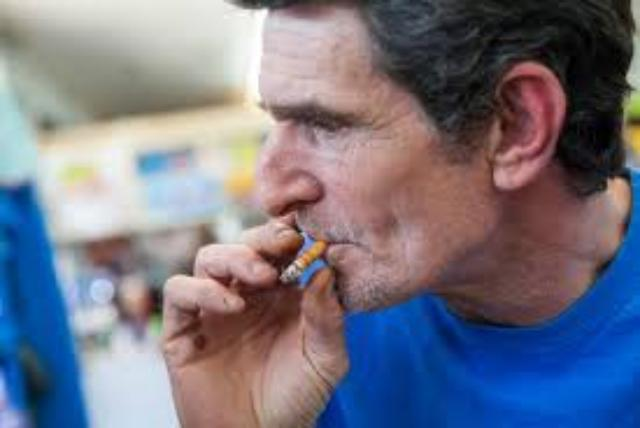Cigarette: (280, 242, 326, 284)
